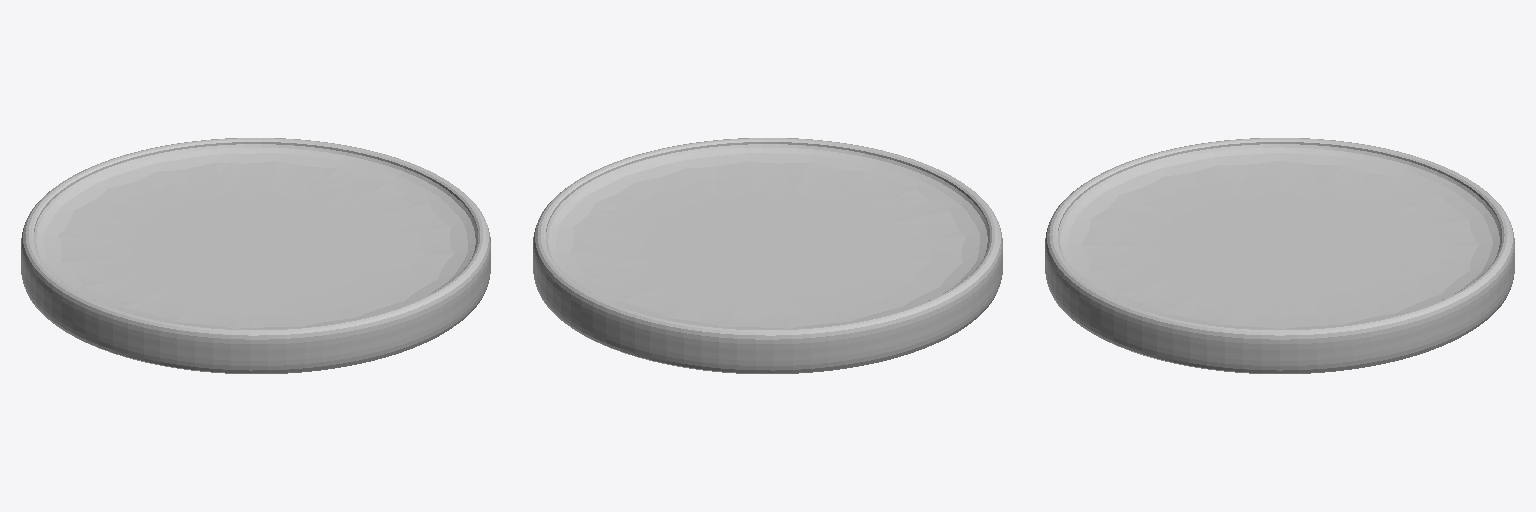
Rendered from coin.obj.
3 views of the same model, side by side, from view 1: azimuth 30°, elevation 25°; view 2: azimuth 150°, elevation 25°; view 3: azimuth 270°, elevation 25° (orthographic).
Visible parts, largest first — view 1: pCylinder1; view 2: pCylinder1; view 3: pCylinder1.
Part boxes in pixels (x1,y1,x2,y2): pCylinder1: (21,138,490,373); pCylinder1: (533,138,1002,373); pCylinder1: (1045,138,1514,373).
Size of the model in its own units: 2.93 by 0.2978 by 2.93.